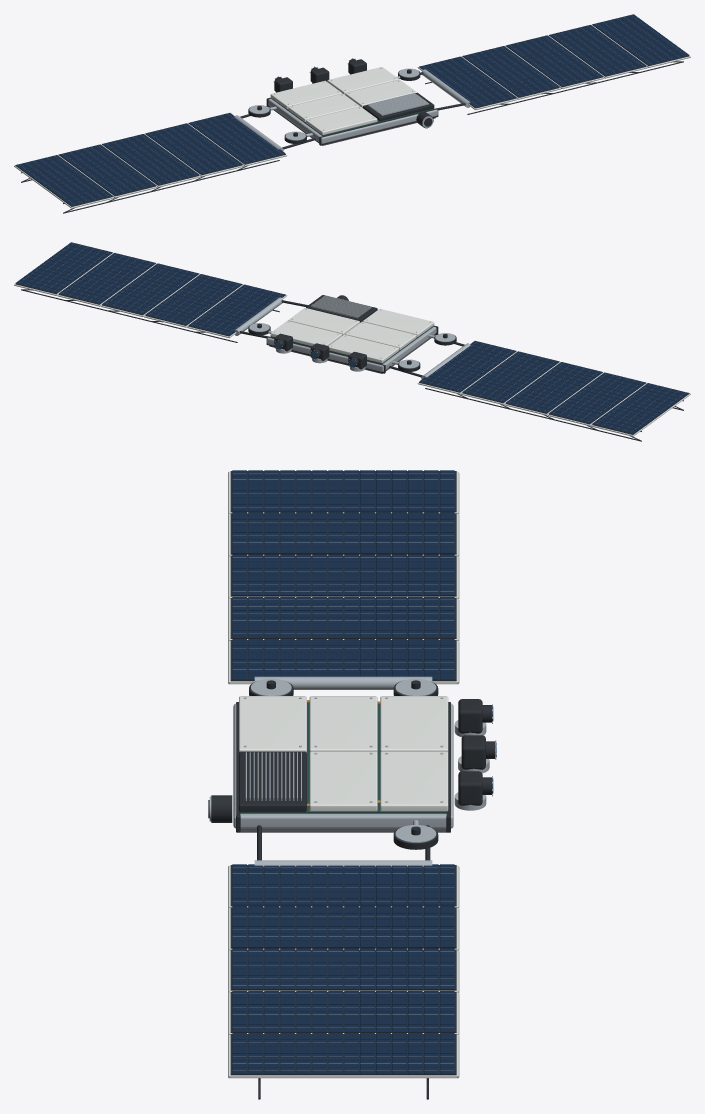
Rendered from starlink-hardware.glb.
3 renders of one model, top to bottom at view 1: azimuth 30°, elevation 25°; view 2: azimuth 150°, elevation 25°; view 3: azimuth 270°, elevation 25°, orthographic. The views are drawn at different scales.
Parts seen in each view (by area): view 1: satellite_wing_left, satellite_wing_right, satellite_antennas, satellite_bus, satellite_lasers; view 2: satellite_wing_right, satellite_wing_left, satellite_antennas, satellite_bus, satellite_lasers; view 3: satellite_wing_right, satellite_wing_left, satellite_antennas, satellite_bus, satellite_lasers, satellite_avionics.
Boxes of the visible parts, <box> form: satellite_wing_left: <box>14,107,315,213</box>; satellite_wing_right: <box>417,14,690,114</box>; satellite_antennas: <box>248,67,420,143</box>; satellite_bus: <box>266,76,438,145</box>; satellite_lasers: <box>273,58,366,92</box>; satellite_wing_right: <box>14,242,308,342</box>; satellite_wing_left: <box>389,341,690,441</box>; satellite_antennas: <box>248,307,456,371</box>; satellite_bus: <box>266,295,438,373</box>; satellite_lasers: <box>273,333,366,371</box>; satellite_wing_right: <box>228,825,459,1099</box>; satellite_wing_left: <box>228,470,459,689</box>; satellite_antennas: <box>239,678,448,849</box>; satellite_bus: <box>233,702,453,832</box>; satellite_lasers: <box>454,699,496,810</box>; satellite_avionics: <box>239,700,447,813</box>.
Size of the model in its own units: 21.81 by 0.9483 by 4.38.
